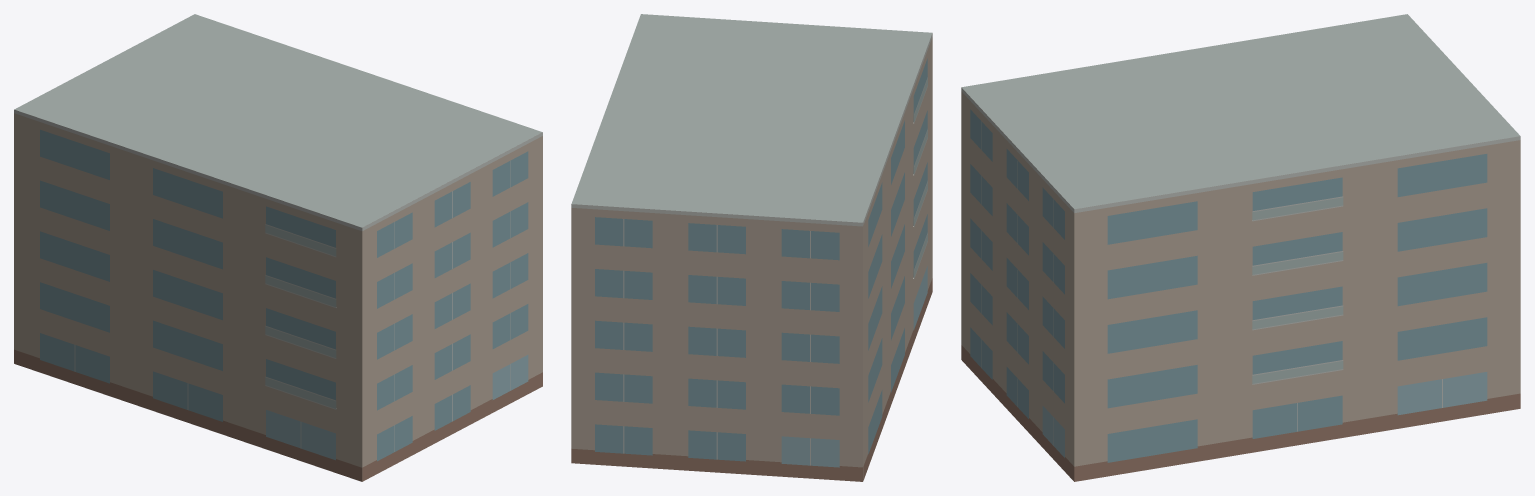
The model's file is survey-upis-32846614.glb.
The picture shows the model from 3 angles, left to right: view 1: azimuth 30°, elevation 25°; view 2: azimuth 150°, elevation 25°; view 3: azimuth 270°, elevation 25°; orthographic projection. The views are drawn at different scales.
Visible parts, largest first — view 1: survey-upis-32846614.tmp; view 2: survey-upis-32846614.tmp; view 3: survey-upis-32846614.tmp.
Boxes of the visible parts, x1,y1,x2,y2 form: survey-upis-32846614.tmp: (14,14,542,481); survey-upis-32846614.tmp: (571,14,932,481); survey-upis-32846614.tmp: (961,14,1520,481).
Bounding box in the file's own units: 26.29 × 17.1 × 31.82.
